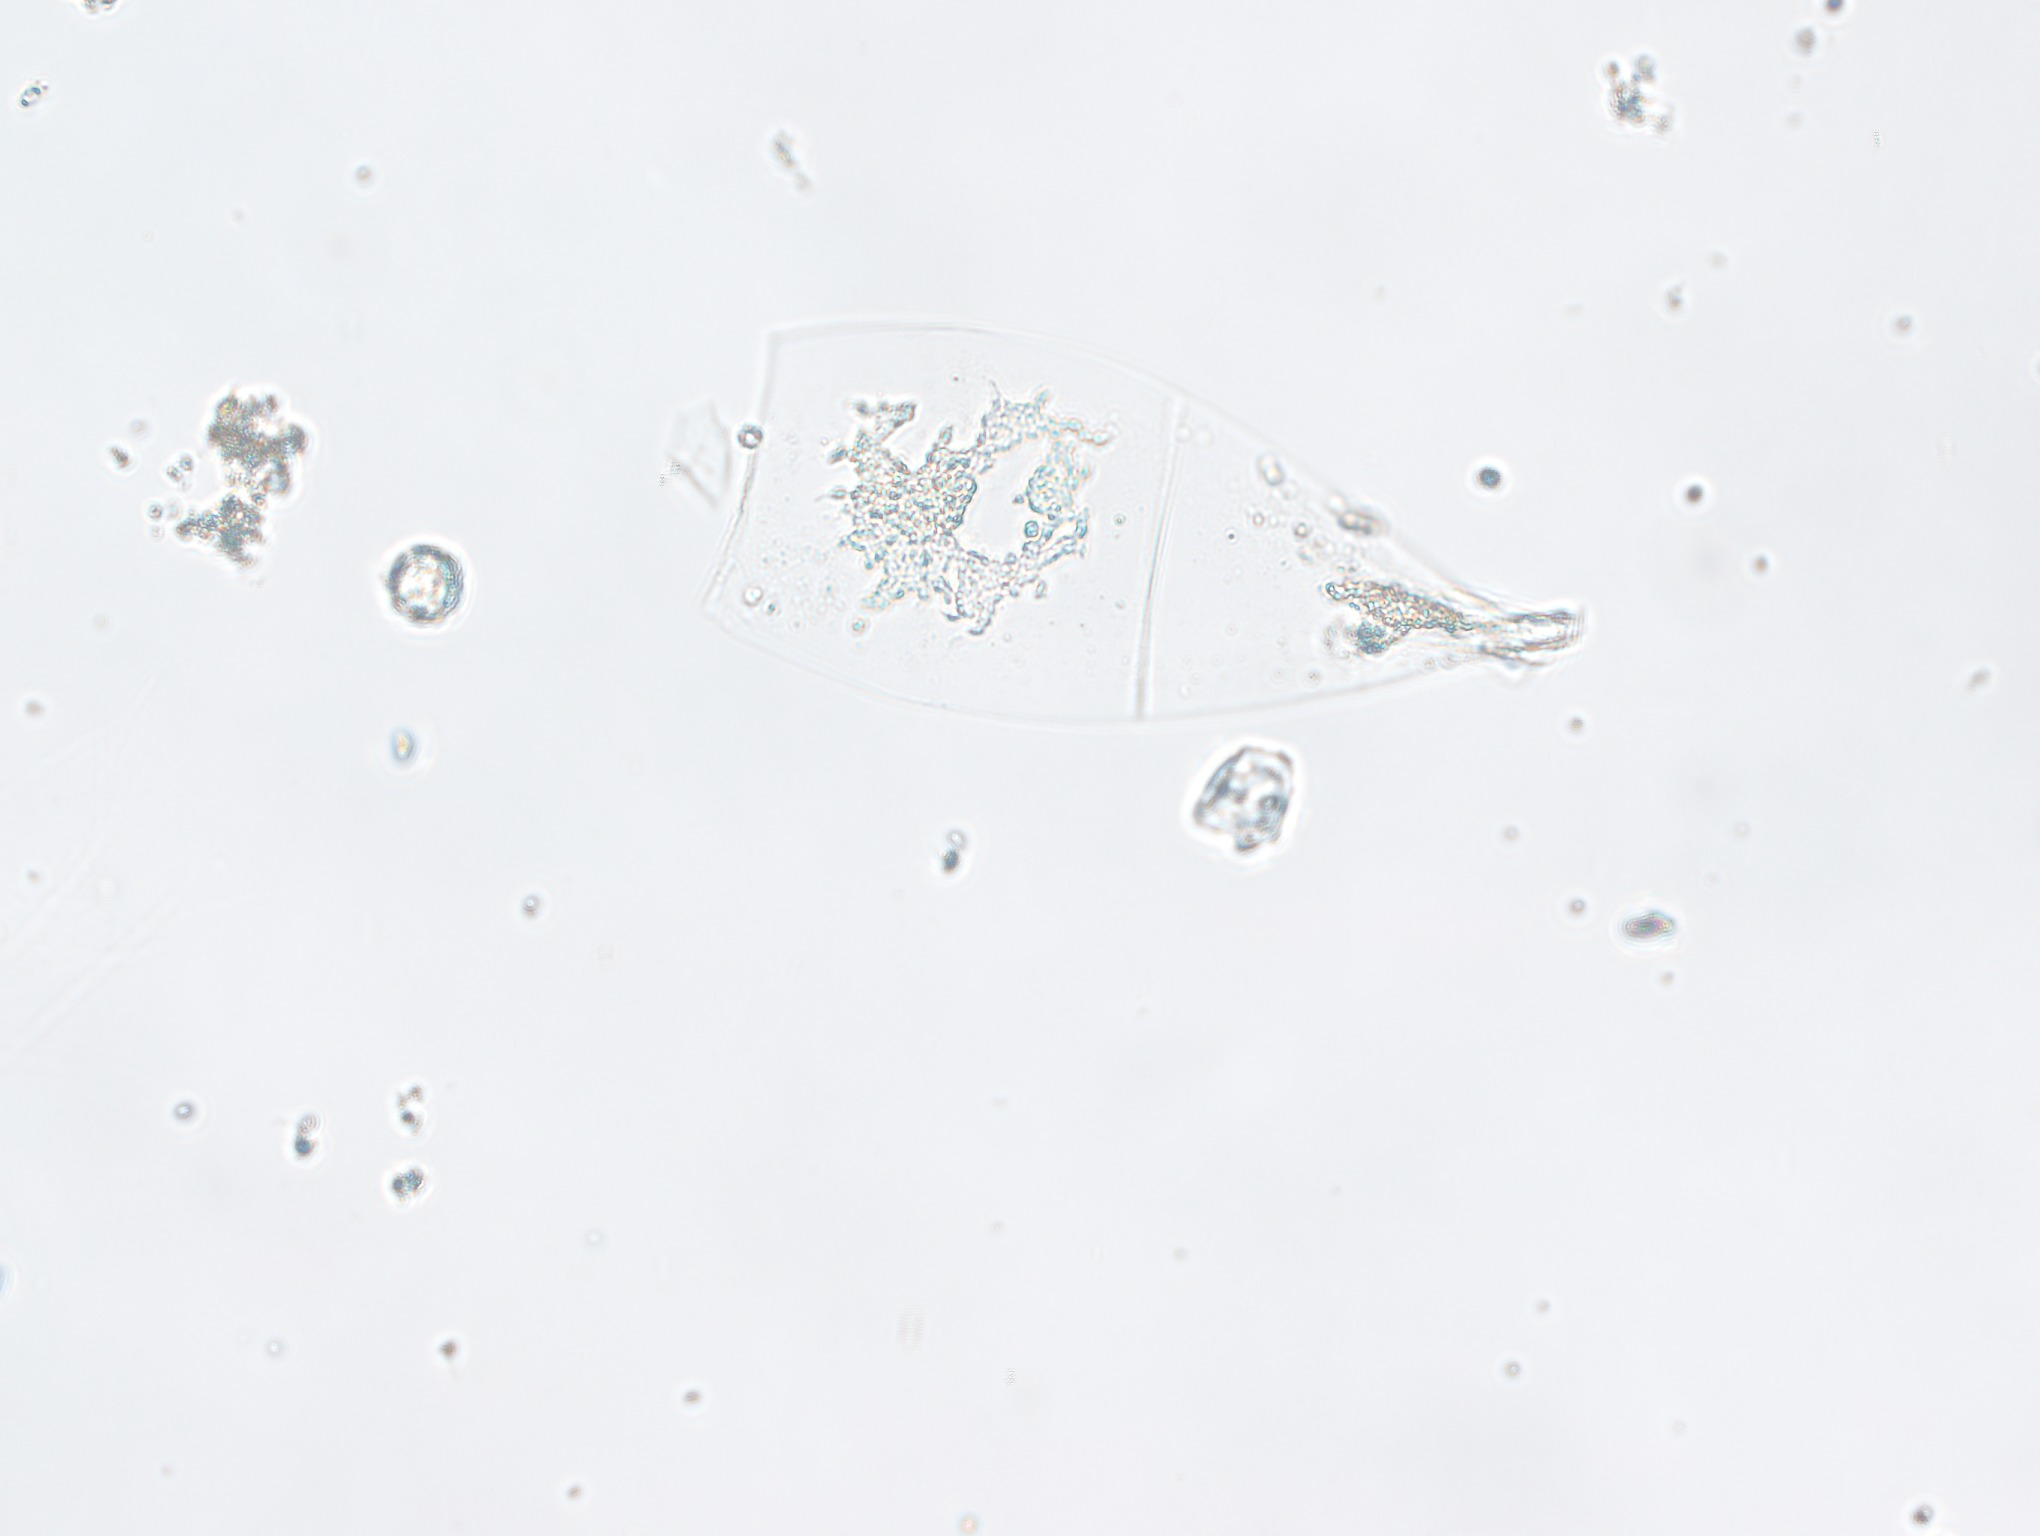helicotheca: (695, 295, 1598, 741)
